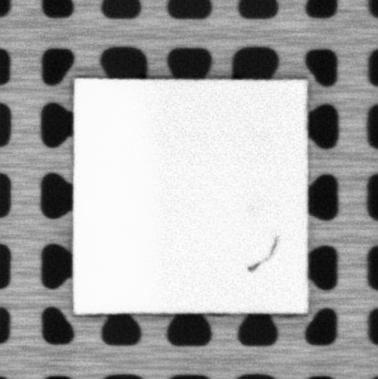DIE_INK: (248, 235, 281, 273)
